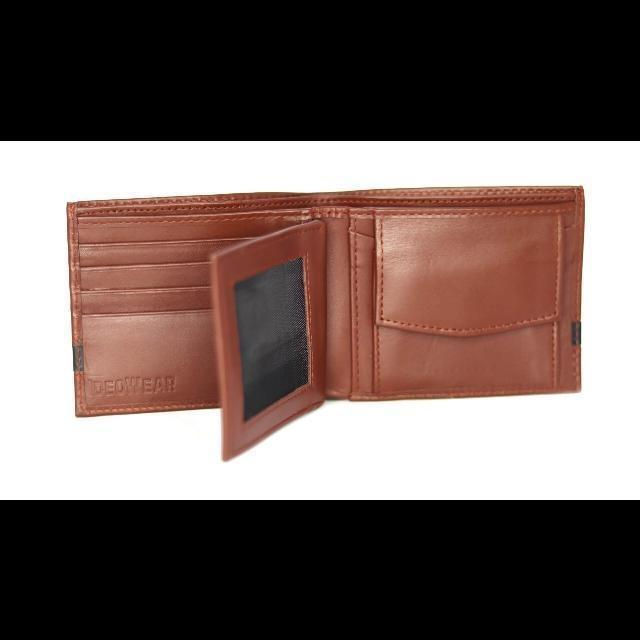Wallet: (53, 180, 585, 462)
